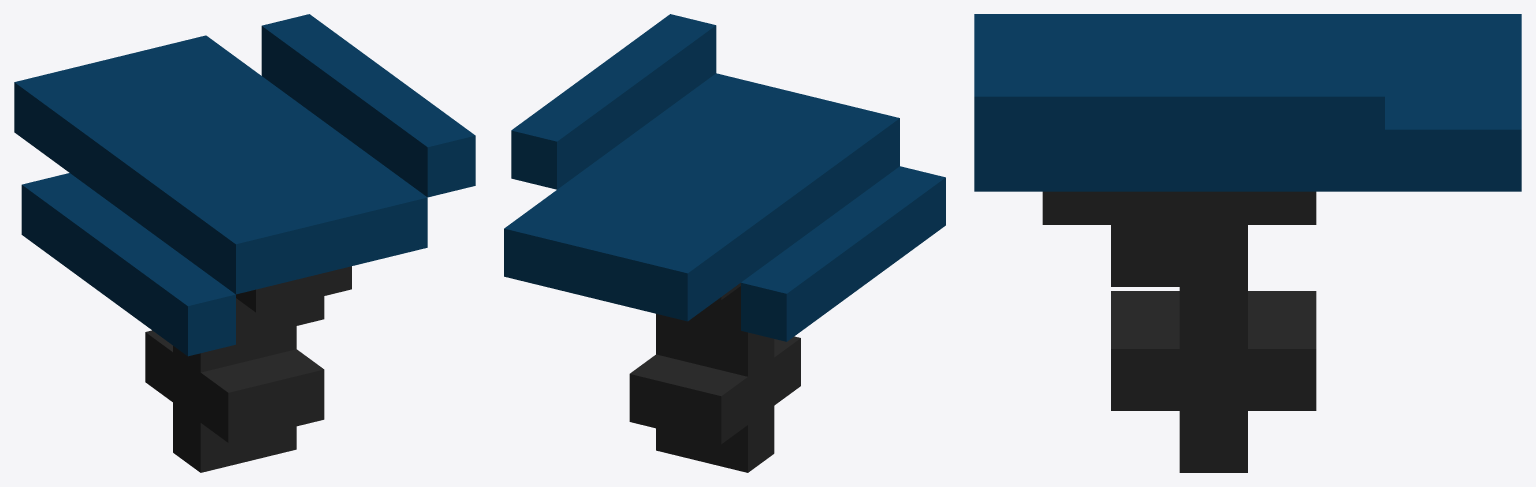
Rendered from Body-15-UVintruder_LandingPod_R.obj.
3 renders of one model, left to right at view 1: azimuth 30°, elevation 25°; view 2: azimuth 150°, elevation 25°; view 3: azimuth 270°, elevation 25°, orthographic. The views are drawn at different scales.
Visible parts, largest first — view 1: UVintruder_LandingPod_R; view 2: UVintruder_LandingPod_R; view 3: UVintruder_LandingPod_R.
Boxes of the visible parts, box(x1,y1,x2,y2) form: UVintruder_LandingPod_R: box(14, 14, 475, 472); UVintruder_LandingPod_R: box(504, 14, 945, 472); UVintruder_LandingPod_R: box(974, 14, 1521, 472).
Bounding box in the file's own units: 0.6 × 0.7 × 0.8.
